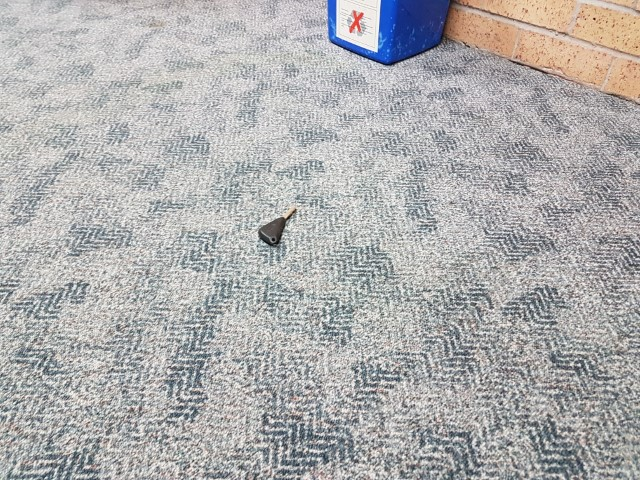key: (258, 203, 297, 245)
